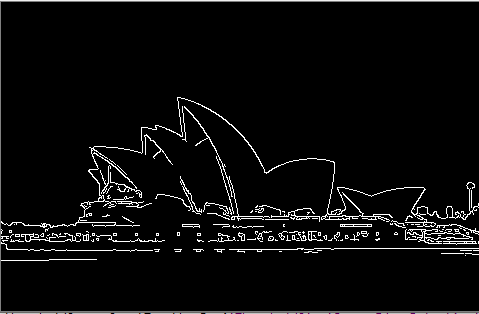opera house: (62, 82, 443, 231)
